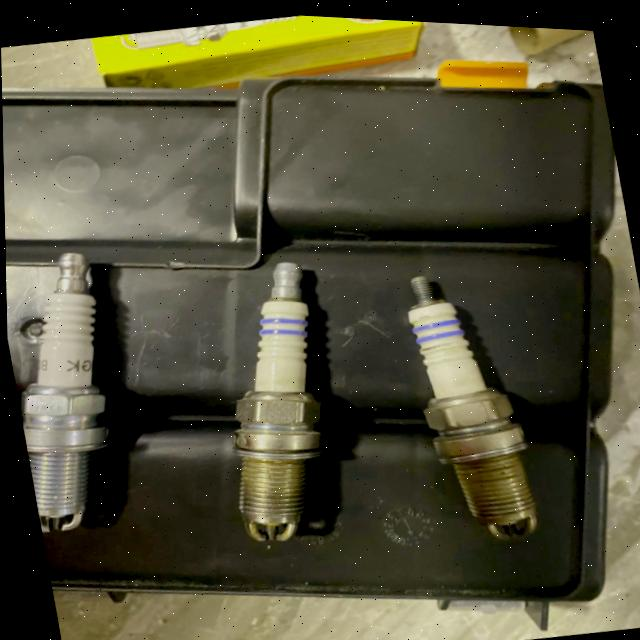damaged_spark-plug: (390, 253, 547, 548)
spark-plug: (187, 247, 357, 552), (4, 241, 140, 540)
